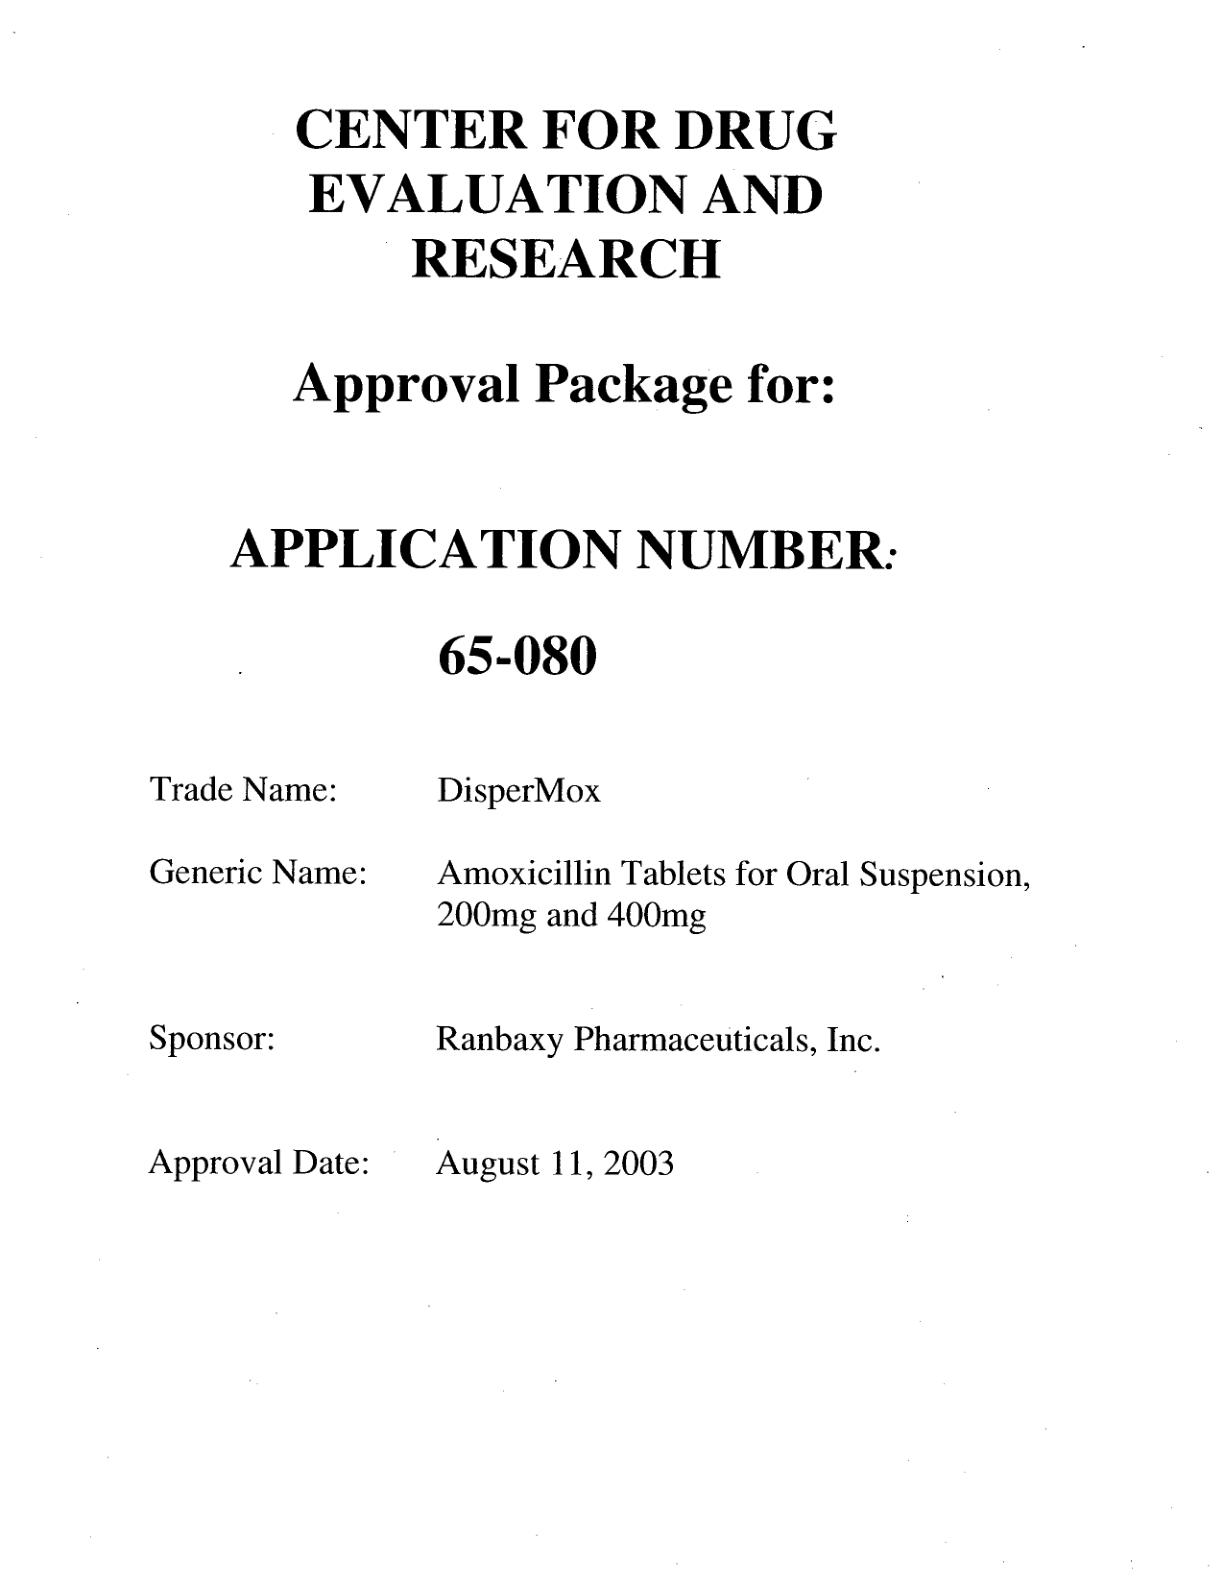nolines: (144, 762, 1038, 1185)
